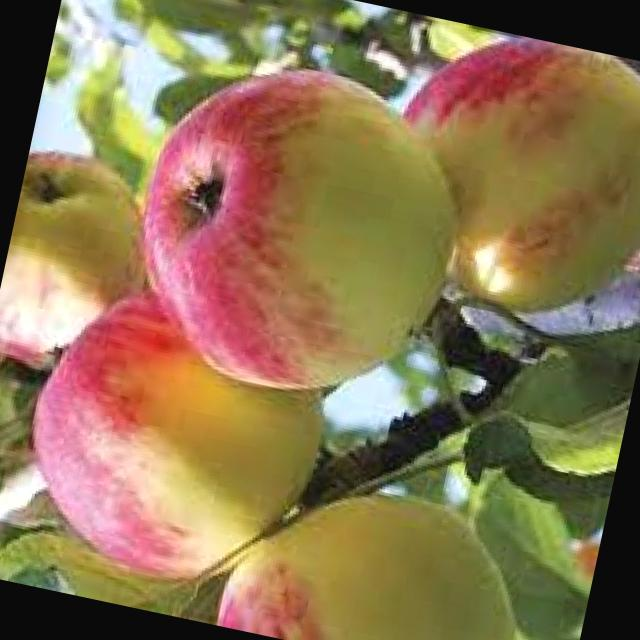Apple: (112, 42, 486, 424), (6, 272, 346, 608), (367, 18, 640, 339), (215, 463, 548, 640), (0, 143, 167, 390)
